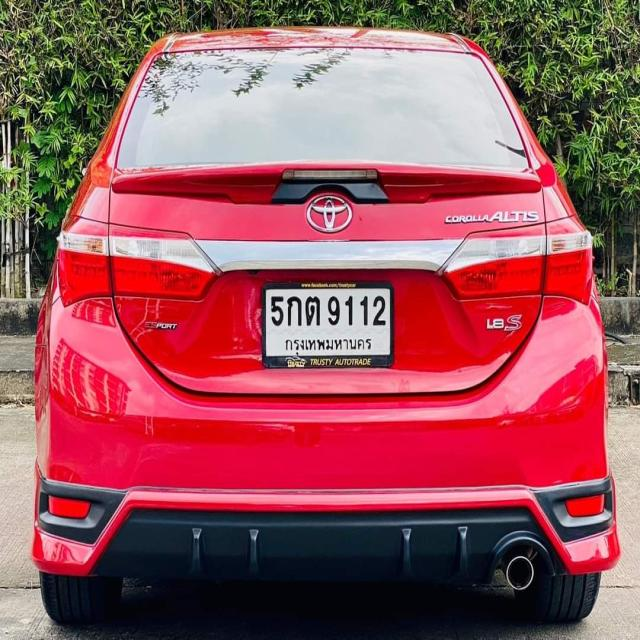license_plate: (262, 284, 395, 369)
